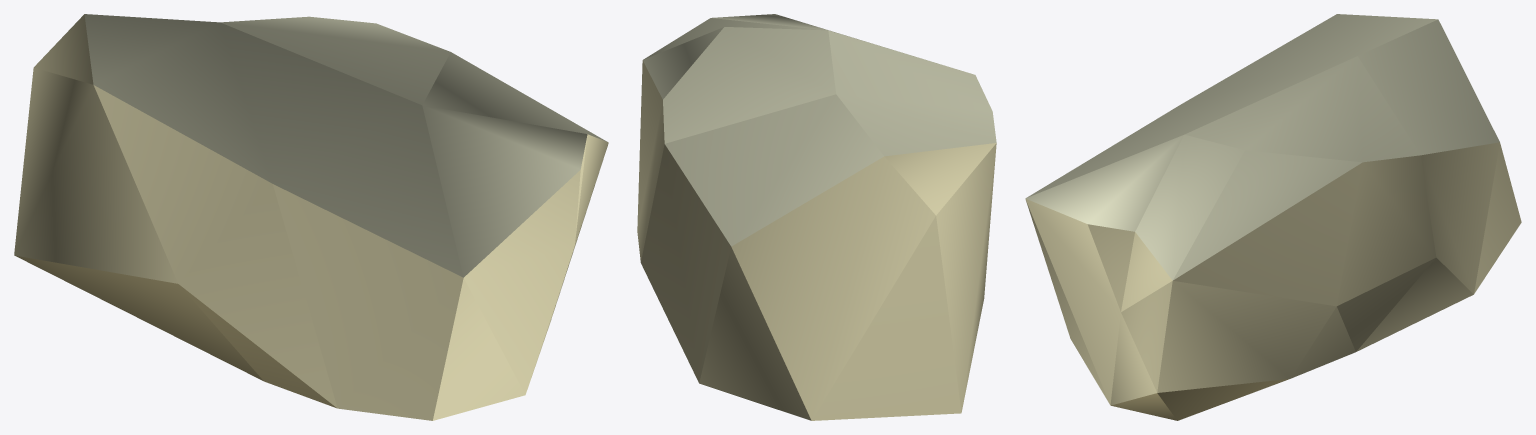
3 views of the same model, side by side, from view 1: azimuth 30°, elevation 25°; view 2: azimuth 150°, elevation 25°; view 3: azimuth 270°, elevation 25° (orthographic). The views are drawn at different scales.
Parts seen in each view (by area): view 1: Object049; view 2: Object049; view 3: Object049.
Boxes of the visible parts, bbox=[...] form: Object049: bbox=[14, 14, 608, 420]; Object049: bbox=[637, 14, 996, 420]; Object049: bbox=[1025, 14, 1521, 420].
Bounding box in the file's own units: 35.4 × 25.11 × 38.33.
